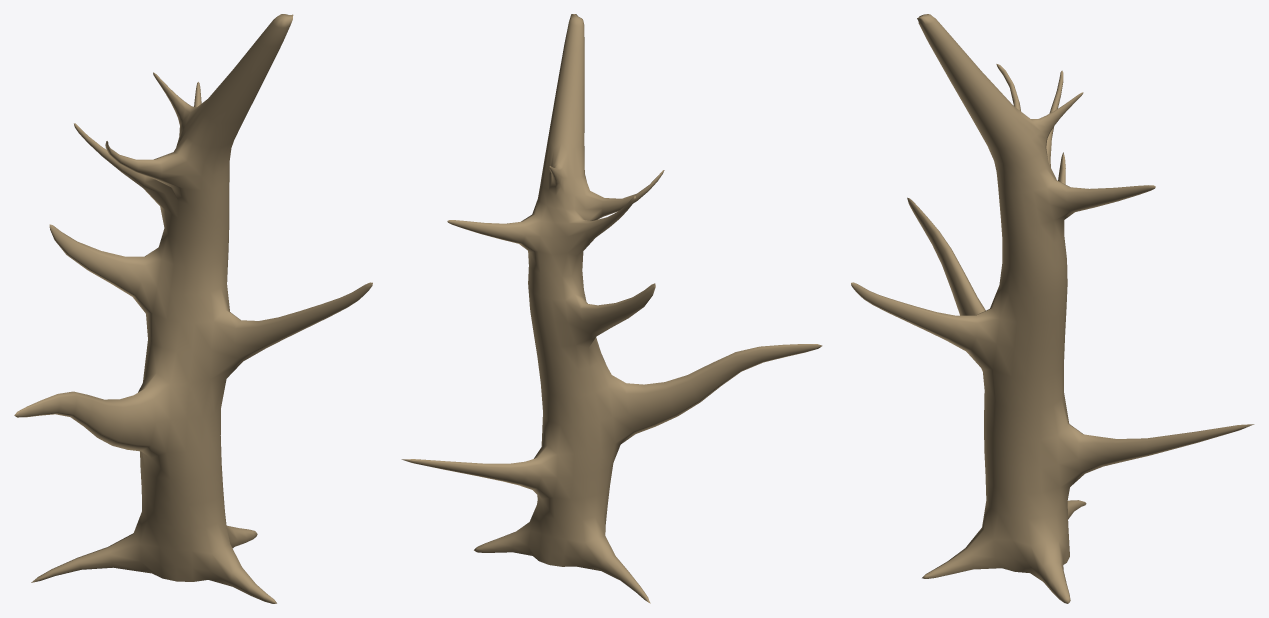
The model's file is dead tree.fbx.
3 views of the same model, side by side, from view 1: azimuth 30°, elevation 25°; view 2: azimuth 150°, elevation 25°; view 3: azimuth 270°, elevation 25° (orthographic). The views are drawn at different scales.
Visible parts, largest first — view 1: Cylinder; view 2: Cylinder; view 3: Cylinder.
Part boxes in pixels (x1,y1,x2,y2): Cylinder: (14,14,372,603); Cylinder: (401,14,822,603); Cylinder: (851,14,1254,603).
Bounding box in the file's own units: 836 × 1420 × 912.
